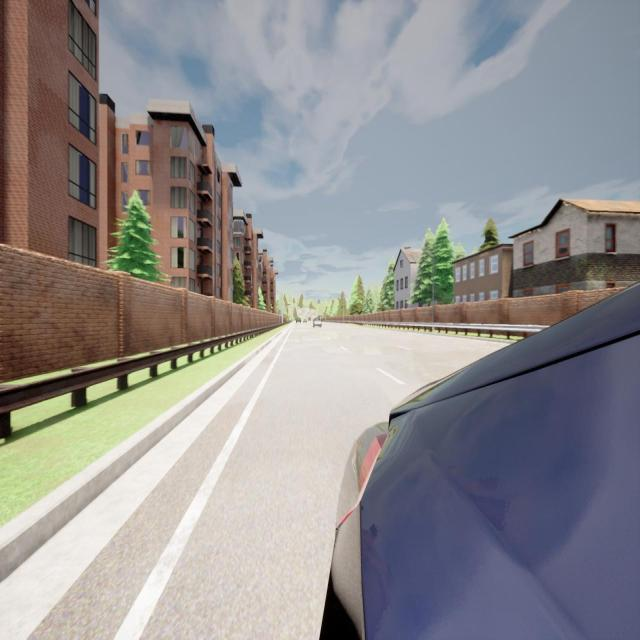Vehicle: (322, 283, 640, 638), (313, 318, 322, 328), (296, 317, 301, 323), (304, 318, 308, 323), (308, 317, 311, 322)
